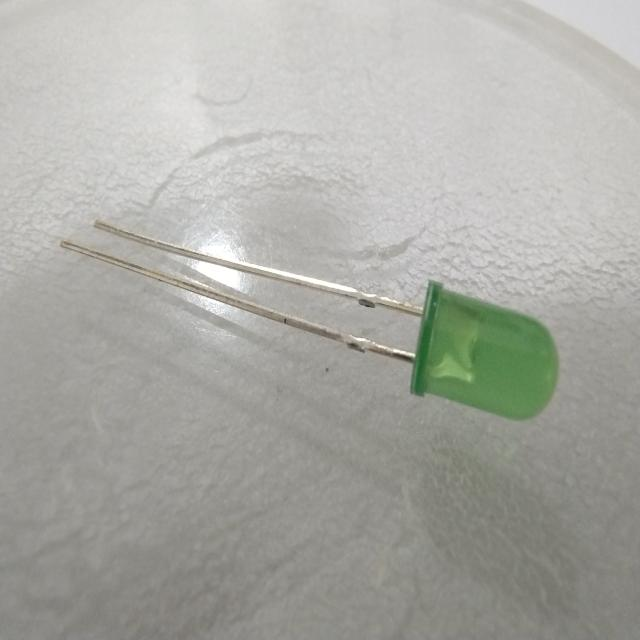green_led: (405, 266, 563, 441)
